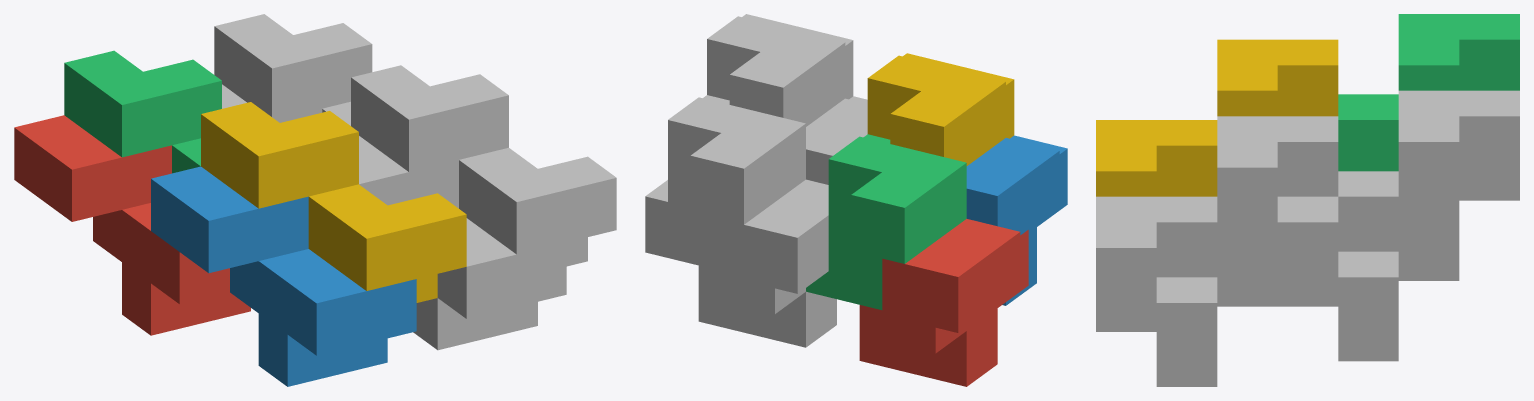
Rendered from tiling.obj.
3 views of the same model, side by side, from view 1: azimuth 30°, elevation 25°; view 2: azimuth 150°, elevation 25°; view 3: azimuth 270°, elevation 25° (orthographic). The views are drawn at different scales.
Visible parts, largest first — view 1: copy_1_domain_2, copy_1_domain_4, copy_1_domain_8, copy_1_domain_1, copy_1_domain_6, copy_1_domain_3, copy_1_domain_7, copy_1_domain_5; view 2: copy_1_domain_1, copy_1_domain_7, copy_1_domain_3, copy_1_domain_5, copy_1_domain_4, copy_1_domain_8, copy_1_domain_2, copy_1_domain_6; view 3: copy_1_domain_8, copy_1_domain_7, copy_1_domain_4, copy_1_domain_3, copy_1_domain_5, copy_1_domain_6.
Boxes of the visible parts, <box> form: copy_1_domain_2: <box>151,166,416,386</box>; copy_1_domain_4: <box>201,102,466,302</box>; copy_1_domain_8: <box>351,65,616,266</box>; copy_1_domain_1: <box>14,115,250,335</box>; copy_1_domain_6: <box>359,136,566,350</box>; copy_1_domain_3: <box>64,50,221,173</box>; copy_1_domain_7: <box>214,14,372,125</box>; copy_1_domain_5: <box>222,84,322,122</box>; copy_1_domain_1: <box>859,219,1028,386</box>; copy_1_domain_7: <box>645,95,805,270</box>; copy_1_domain_3: <box>806,134,966,309</box>; copy_1_domain_5: <box>698,179,836,347</box>; copy_1_domain_4: <box>867,53,1014,165</box>; copy_1_domain_8: <box>707,14,853,126</box>; copy_1_domain_2: <box>966,135,1067,305</box>; copy_1_domain_6: <box>806,96,867,184</box>; copy_1_domain_8: <box>1096,116,1338,357</box>; copy_1_domain_7: <box>1277,90,1519,331</box>; copy_1_domain_4: <box>1096,39,1338,196</box>; copy_1_domain_3: <box>1338,14,1519,171</box>; copy_1_domain_5: <box>1277,171,1519,361</box>; copy_1_domain_6: <box>1096,277,1277,386</box>.
Bounding box in the file's own units: 8 × 4 × 7.
